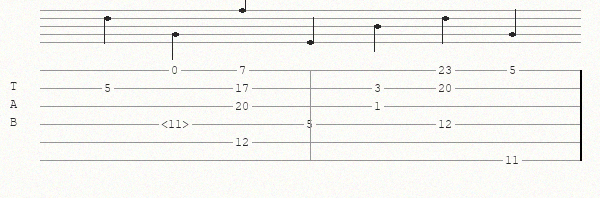0: (171, 64, 182, 76)
1: (374, 100, 385, 112)
11: (505, 154, 523, 166)
12: (235, 136, 253, 148), (438, 118, 456, 130)
17: (235, 82, 253, 94)
20: (235, 100, 253, 112), (438, 82, 456, 94)
23: (438, 64, 456, 76)
3: (374, 82, 385, 94)
5: (104, 82, 115, 94), (306, 118, 317, 130), (509, 64, 520, 76)
7: (239, 64, 250, 76)
harmonic: (161, 118, 193, 131)
